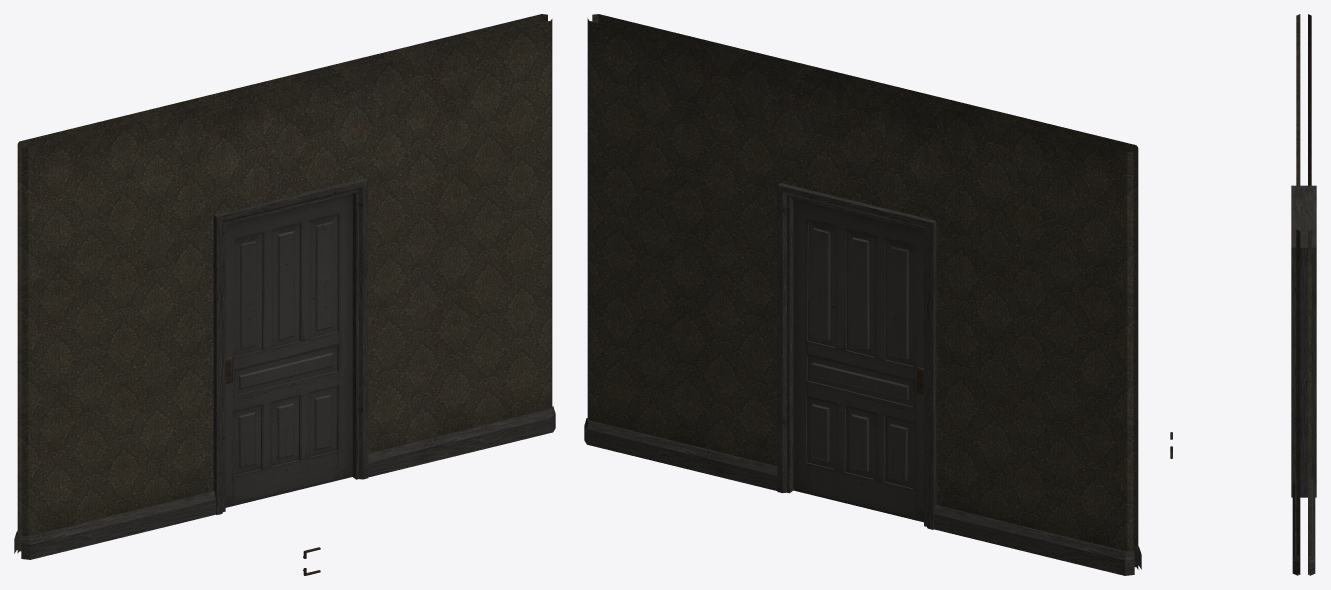
Rendered from doorway_2_1.fbx.
3 renders of one model, left to right at view 1: azimuth 30°, elevation 25°; view 2: azimuth 150°, elevation 25°; view 3: azimuth 270°, elevation 25°, orthographic. The views are drawn at different scales.
Visible parts, largest first — view 1: doorway_2_1, door_1; view 2: doorway_2_1, door_1; view 3: doorway_2_1.
Boxes of the visible parts, x1=… form: doorway_2_1: x1=14, y1=14, x2=555, y2=559; door_1: x1=225, y1=193, x2=352, y2=507; doorway_2_1: x1=584, y1=14, x2=1141, y2=575; door_1: x1=793, y1=199, x2=923, y2=522; doorway_2_1: x1=1291, y1=14, x2=1316, y2=575.
Bounding box in the file's own units: 4.09 × 3.09 × 1.16.
